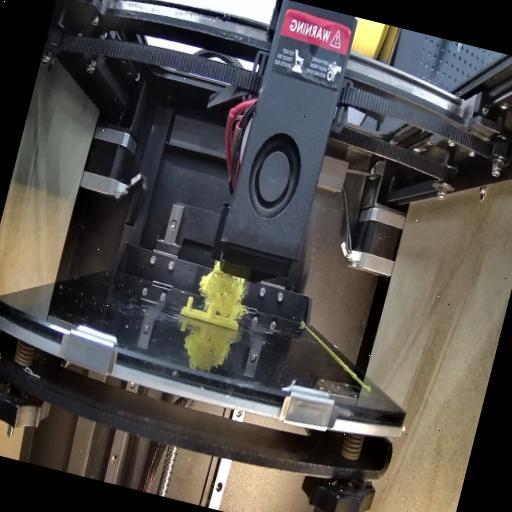spaghetti: (190, 258, 256, 323)
